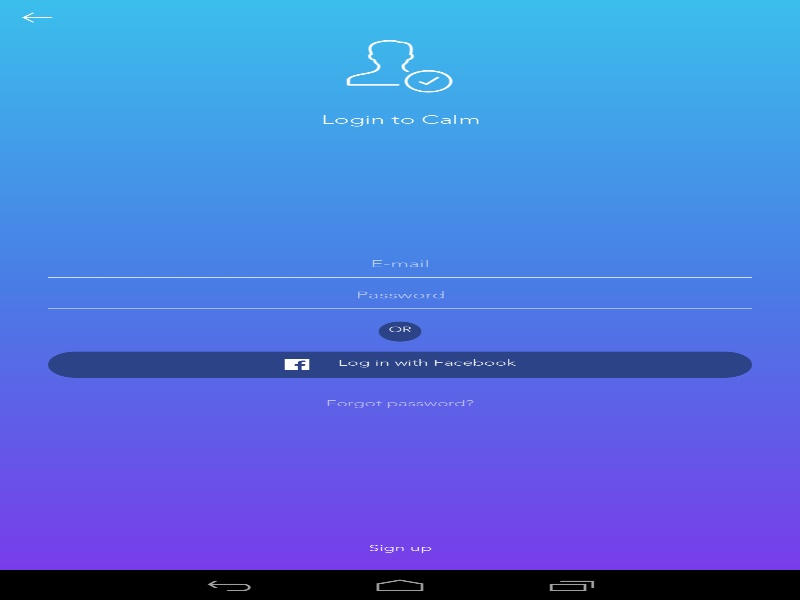Button: (0, 0, 74, 35)
Input: (48, 282, 752, 309), (48, 251, 752, 277)
